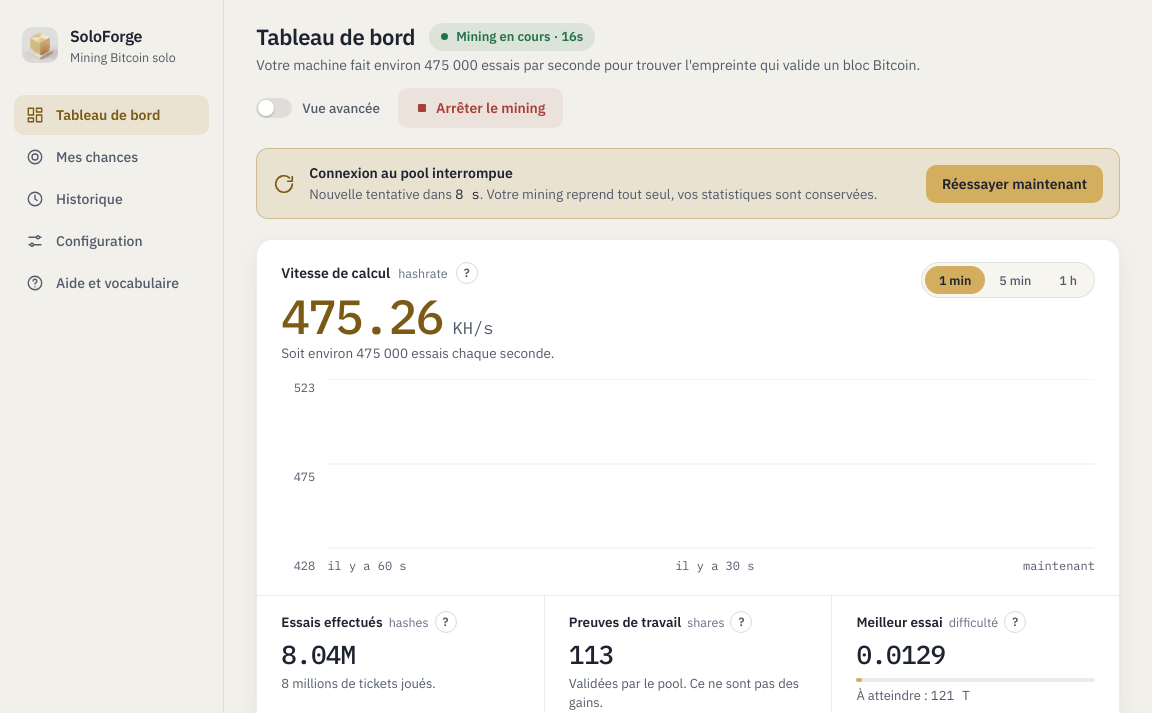
Test case: state banners › keeps the technical error for the advanced view
Expected: the text "dial tcp: i/o timeout" is not shown
Click the switch labelled "Vue avancée" at coordinates (318, 108), box [256,88,380,128]
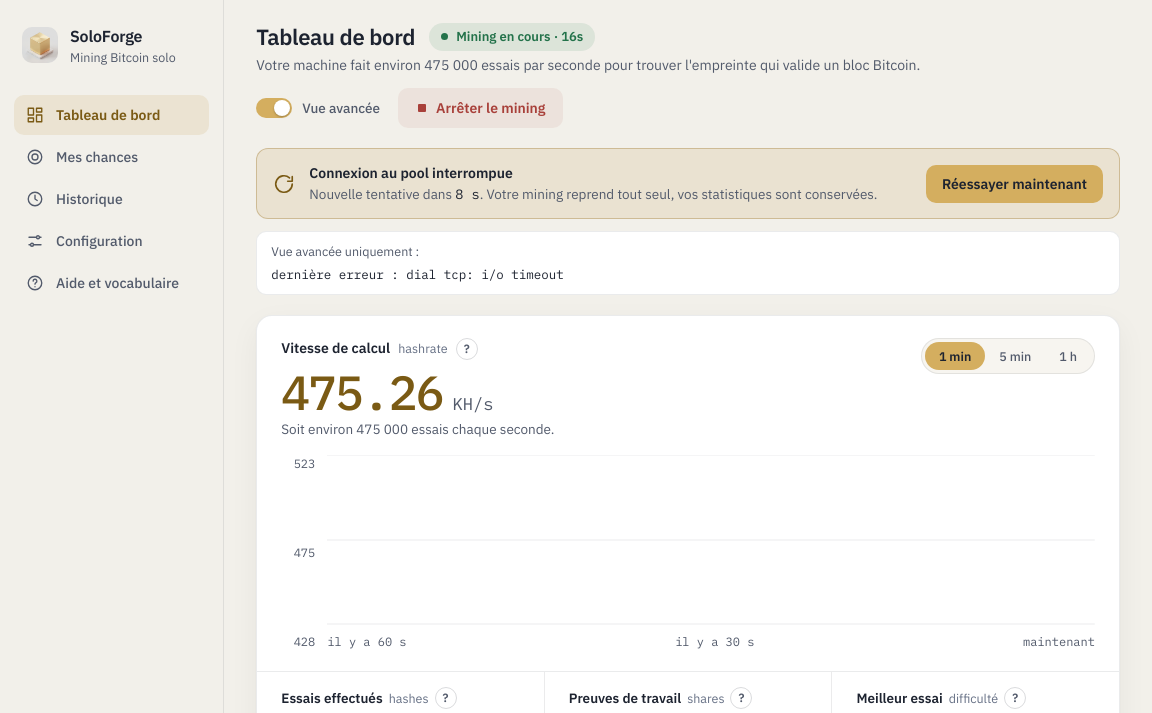
Result: the text "dernière erreur : dial tcp: i/o timeout" is shown at [271,266,564,282]
